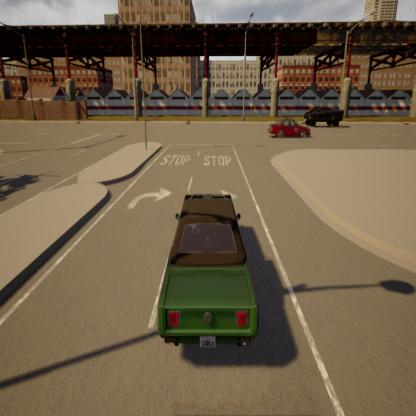Cars: (150, 163, 266, 375), (258, 114, 314, 146), (300, 98, 347, 131)
